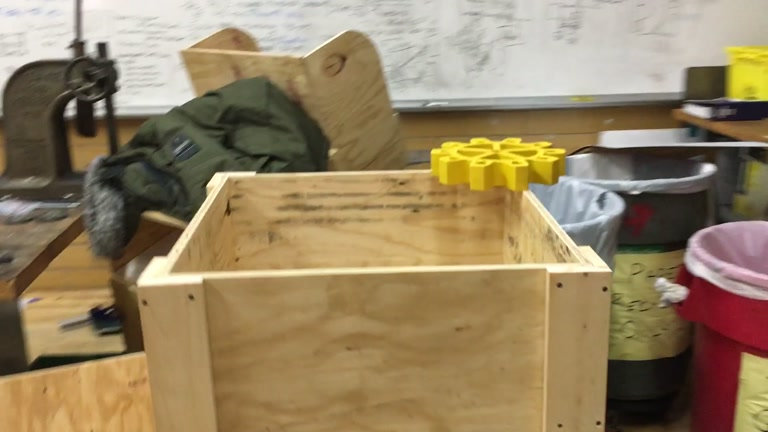gear: (430, 135, 565, 192)
